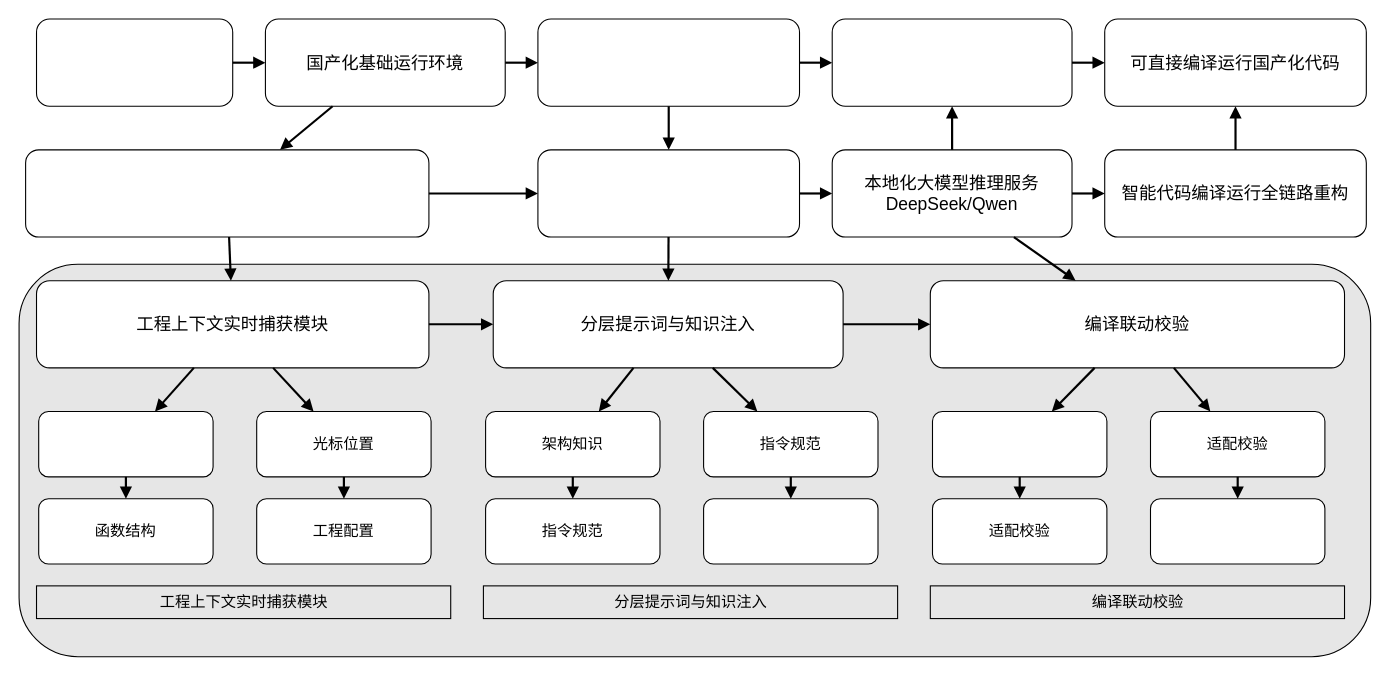
Image size: 1390x676. Some labels were removed from this diagram. The shapes that lost their labels are listed below. From the top down, each one's centre as x and y in pixels, then its label:
At [134,62]: "申威服务器".
At [668,62]: "Theia开源IDE国产化适配底座".
At [951,62]: "Roocode智能插件核心中枢".
At [227,193]: "Electron+Chromium+V8+Node.js适配层".
At [668,193]: "申威架构语法校验+编译/重构".
At [125,443]: "当前文件".
At [1019,443]: "语法检查".
At [790,531]: "编译约束".
At [1237,531]: "结果回插".
